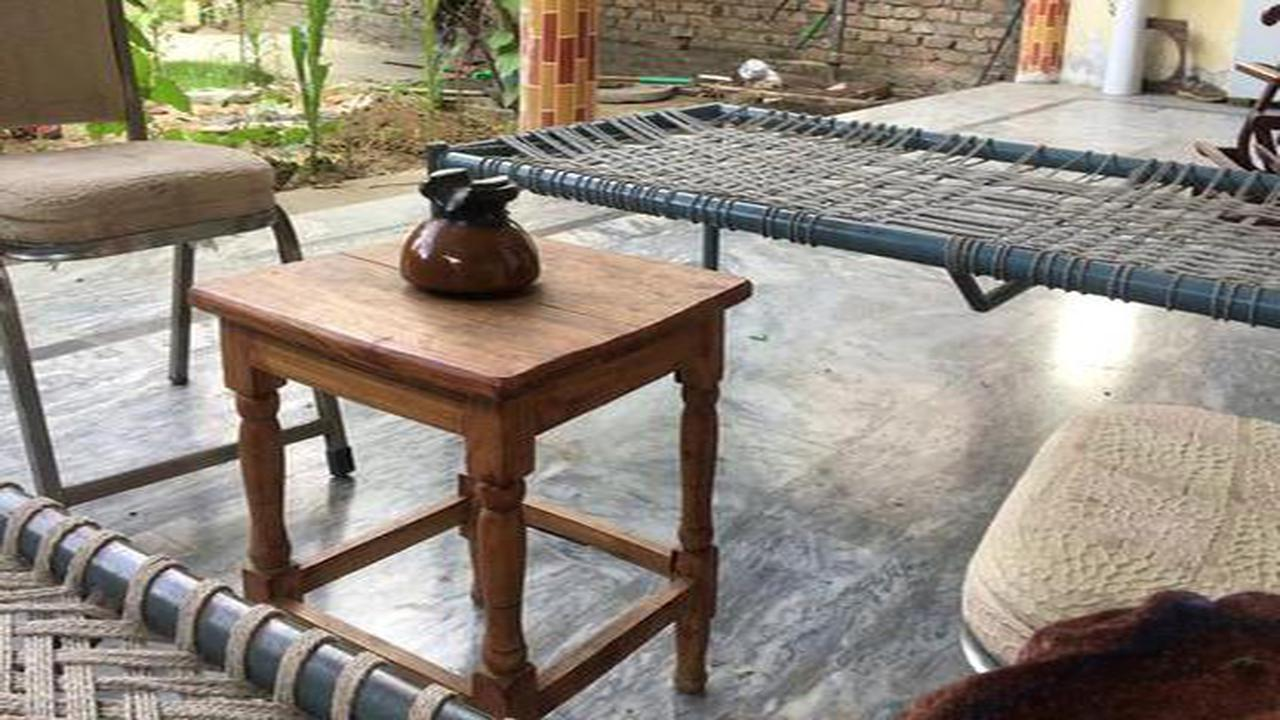insulator_pin: (385, 154, 567, 314)
